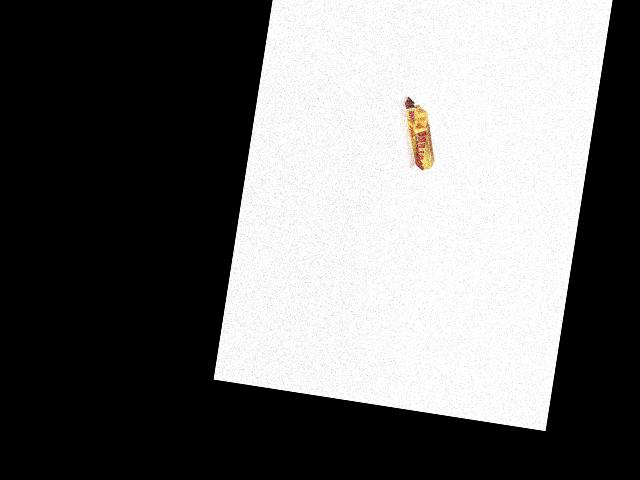chocolate: (392, 95, 444, 171)
